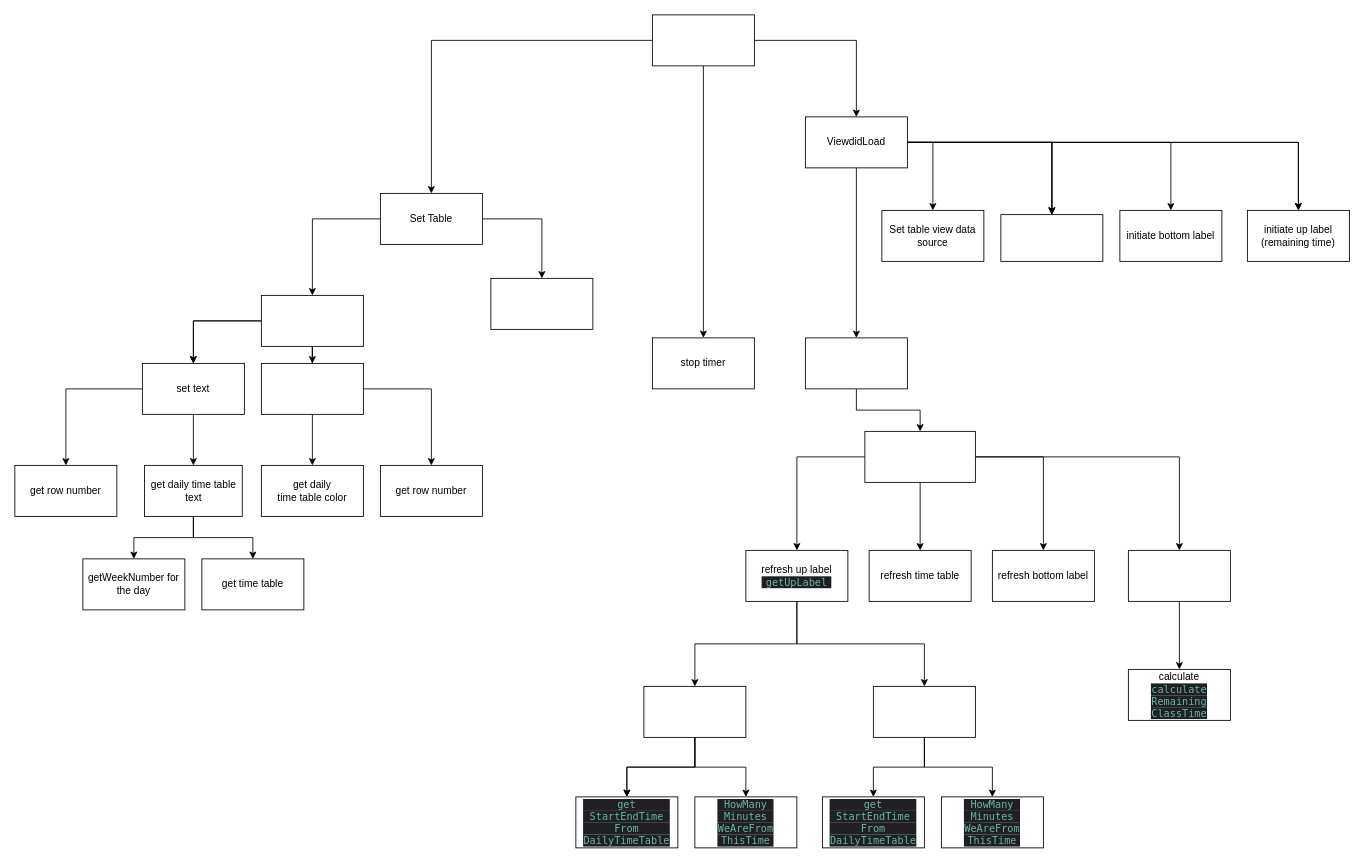
The diagram is 1364 pixels wide and 863 high, and some of its shapes have lost their labels. The centre of each missing label's shape, as x and y in pixels:
"calculate Remaining BreakTime" goes at [924,711].
"calculate Remaining ClassTime" goes at [694,711].
"check whether play sound check WhenPlaySound" goes at [1179,575].
"CustomCellVC" goes at [703,40].
"register nib" goes at [1051,237].
"set cell for row" goes at [312,320].
"set color" goes at [312,388].
"set number of rows" goes at [541,303].
"start timer" goes at [856,363].
"updateTimer" goes at [919,456].
